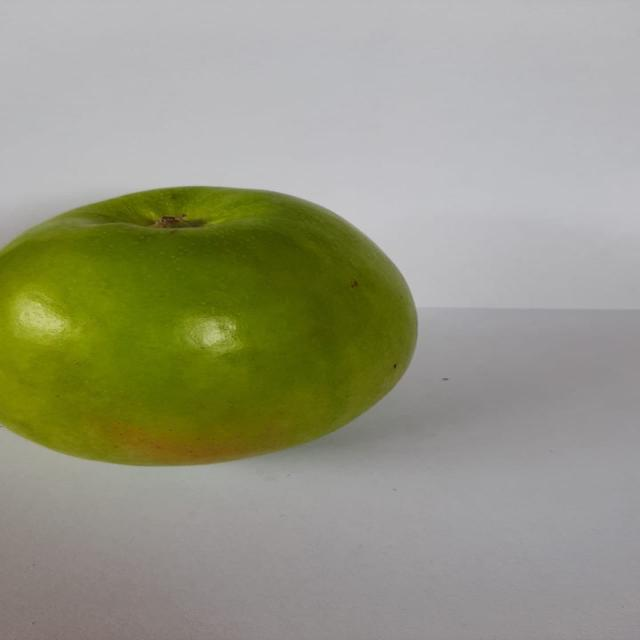50-_ripeness: (9, 172, 435, 473)
